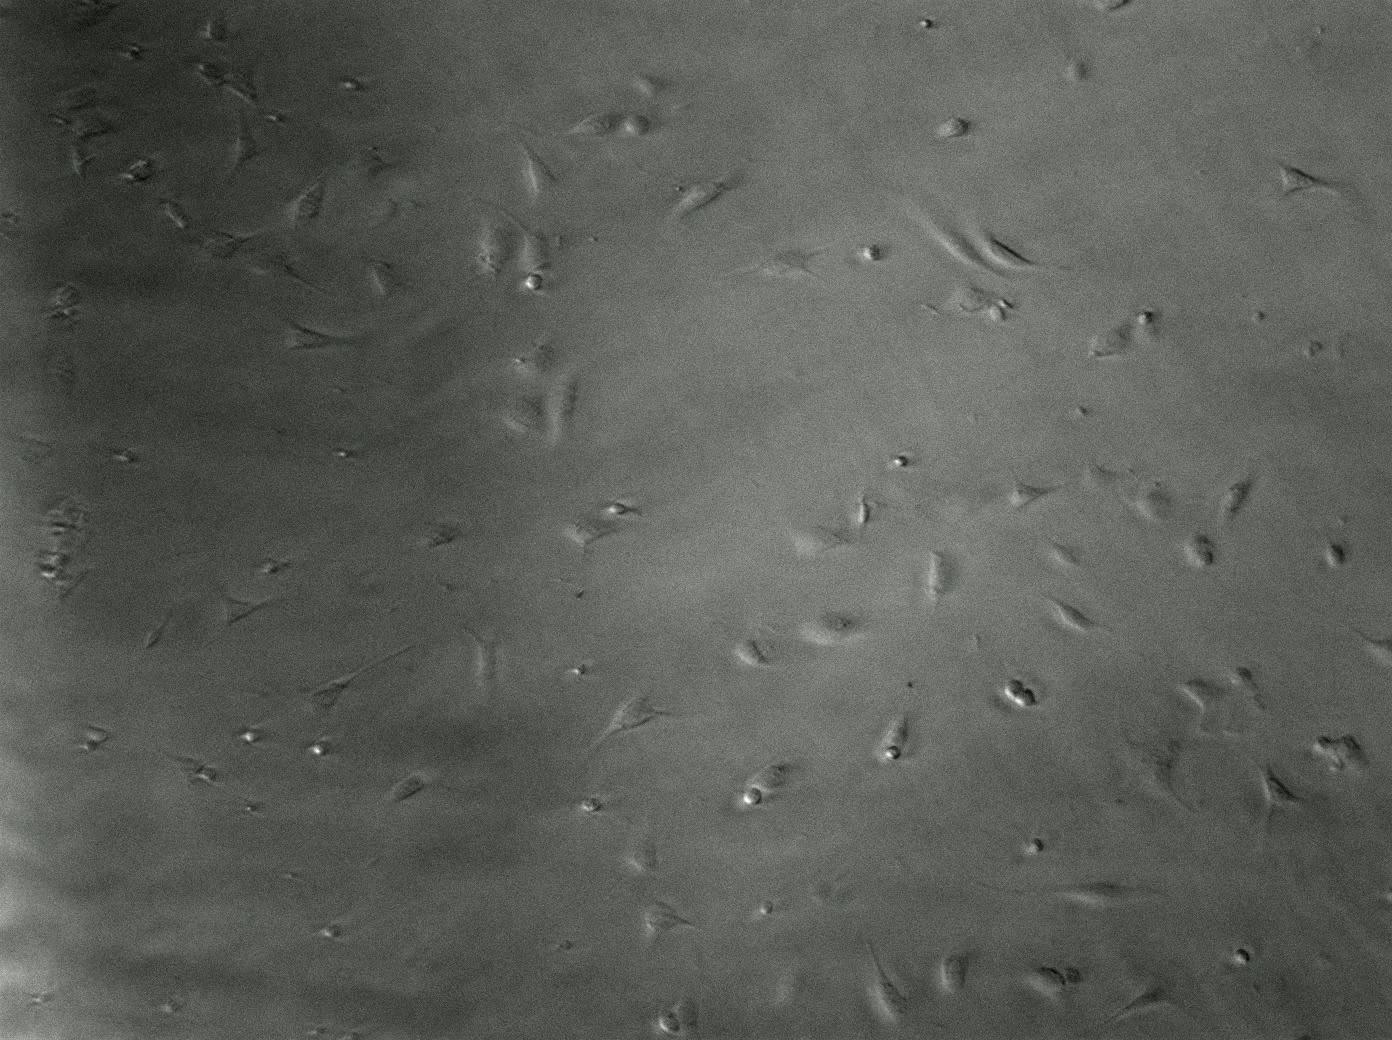cell: (889, 185, 1028, 286), (300, 639, 421, 720), (1100, 736, 1200, 816), (722, 235, 850, 284), (1239, 749, 1313, 834), (1080, 979, 1183, 1036), (1301, 598, 1392, 662), (588, 688, 677, 752), (495, 203, 555, 297), (1264, 151, 1348, 206), (1024, 878, 1177, 909), (662, 169, 744, 226), (862, 934, 912, 1026), (970, 216, 1046, 275), (1035, 584, 1117, 638), (248, 257, 339, 299), (210, 588, 295, 633), (545, 374, 591, 457), (274, 312, 356, 357), (221, 108, 264, 190), (10, 430, 98, 468), (149, 740, 219, 787), (1005, 465, 1075, 512), (933, 284, 1019, 321), (200, 222, 279, 262), (350, 250, 406, 303), (516, 137, 563, 200), (792, 608, 869, 647), (514, 330, 565, 386), (214, 56, 262, 113), (564, 103, 633, 142), (288, 165, 329, 229), (791, 523, 853, 565), (1312, 729, 1369, 773), (563, 521, 616, 568), (477, 209, 512, 280), (641, 898, 703, 938), (624, 816, 664, 876), (738, 761, 787, 809), (46, 277, 85, 331), (925, 547, 957, 613), (1126, 488, 1182, 525), (1173, 677, 1227, 716), (49, 563, 90, 613), (1026, 962, 1084, 997), (772, 959, 809, 1015), (469, 628, 505, 683), (875, 711, 913, 763), (507, 405, 547, 453), (628, 66, 681, 101), (176, 56, 227, 91), (1223, 469, 1257, 520), (140, 605, 176, 652), (119, 153, 168, 187), (47, 347, 79, 400), (735, 637, 781, 672), (356, 145, 399, 182), (387, 769, 429, 804), (940, 952, 974, 995), (1182, 529, 1218, 569), (1087, 324, 1129, 359), (55, 80, 99, 111), (67, 114, 120, 140), (1045, 536, 1087, 569), (69, 139, 98, 186), (424, 519, 468, 548), (930, 115, 981, 139), (202, 8, 235, 45), (163, 198, 196, 233), (671, 992, 698, 1029), (623, 110, 660, 137), (1082, 0, 1144, 15), (588, 497, 634, 517), (79, 722, 114, 745), (1321, 542, 1347, 570), (658, 1008, 682, 1035), (1014, 687, 1038, 710), (1003, 678, 1025, 701)
debris: (297, 734, 342, 757), (232, 723, 270, 746), (314, 922, 349, 941), (111, 447, 142, 468), (154, 1007, 190, 1025), (255, 558, 291, 576), (25, 989, 60, 1006), (334, 75, 367, 94), (523, 271, 548, 295), (858, 492, 872, 529), (578, 795, 604, 815), (860, 243, 883, 264), (1232, 946, 1255, 968), (1060, 971, 1084, 992), (548, 937, 578, 954), (1023, 836, 1048, 854), (192, 767, 221, 783), (913, 15, 937, 34), (333, 446, 362, 461), (1137, 308, 1157, 329), (988, 305, 1008, 323), (303, 1026, 334, 1038), (743, 788, 763, 806), (1198, 543, 1217, 562), (758, 897, 776, 918), (238, 800, 263, 814), (996, 297, 1018, 311), (334, 1030, 364, 1040), (886, 745, 903, 761), (367, 137, 385, 152), (892, 453, 910, 468), (264, 114, 288, 125), (567, 664, 588, 676), (87, 740, 103, 751), (574, 590, 588, 601)
